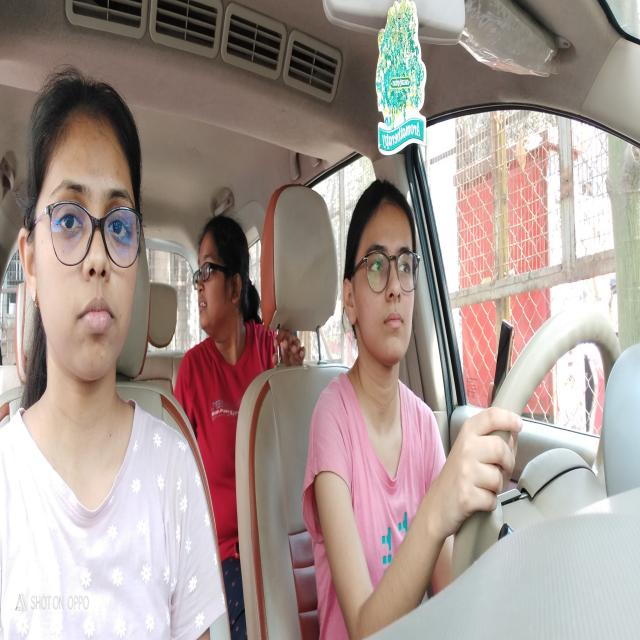mobile: (495, 318, 517, 388)
person: (24, 82, 143, 394), (349, 187, 416, 361), (191, 219, 250, 334)
